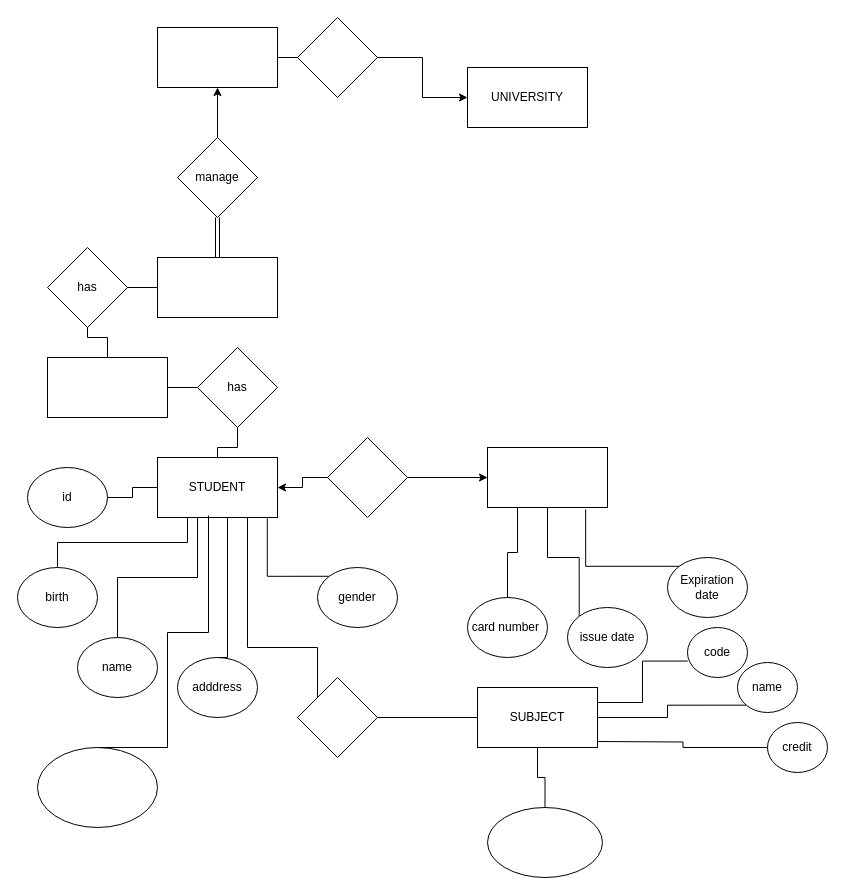
Some shapes in this 845 by 895 pixel diagram are drawn without their labels. Each missing label, with the box of its shape:
CLASSES: (46, 356, 168, 418)
computerize: (296, 16, 378, 98)
FACULTY: (156, 256, 278, 318)
graduation point: (36, 746, 158, 828)
LIB CARD: (486, 446, 608, 508)
MANAGEMENT: (156, 26, 278, 88)
own: (326, 436, 408, 518)
study: (296, 676, 378, 758)
subject score: (486, 806, 602, 878)
